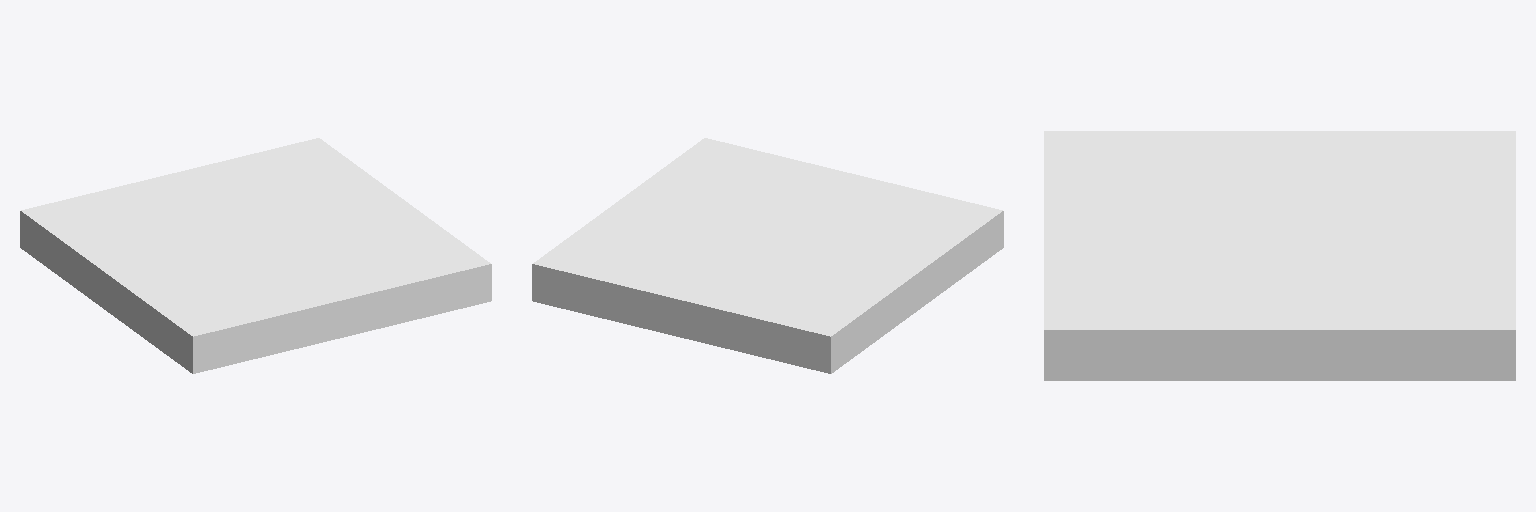
robot.urdf — pupper_concrete:
<?xml version="1.0" ?>
<robot name="pupper_concrete">
  <link name="puller_concrete_planeLink">
  <contact>
      <lateral_friction value="1"/>
  </contact>
    <inertial>
      <origin rpy="0 0 0" xyz="0 0 0"/>
       <mass value=".0"/>
       <inertia ixx="0" ixy="0" ixz="0" iyy="0" iyz="0" izz="0"/>
    </inertial>
    <visual>
      <origin rpy="0 0 0" xyz="1 -1 -0.15"/>
      <geometry>
				<mesh filename="meshes/concrete_plane.obj" scale="1 1 1"/>
      </geometry>
       <material name="white">
        <color rgba="1 1 1 1"/>
      </material>
    </visual>
    <collision>
      <origin rpy="0 0 0" xyz="1 -1 -0.075"/>
      <geometry>
	 	<box size="3 3 0.15"/>
      </geometry>
    </collision>
  </link>
</robot>

--- What the picture shows (computed from the rendered views, not written in the file) ---
3 views of the same robot in one strip: view 1: azimuth 30°, elevation 25°; view 2: azimuth 150°, elevation 25°; view 3: azimuth 270°, elevation 25° (orthographic).
Model pupper_concrete with 1 links and 0 joints (none), rooted at puller_concrete_planeLink, posed all joints at 0.
Links seen in each view (by area): view 1: puller_concrete_planeLink; view 2: puller_concrete_planeLink; view 3: puller_concrete_planeLink.
Link boxes in pixels (<box>): puller_concrete_planeLink: <box>20,138,491,373</box>; puller_concrete_planeLink: <box>532,138,1003,373</box>; puller_concrete_planeLink: <box>1044,131,1515,380</box>.
Size in the robot's own frame: 2.5 by 2.5 by 0.3 metres.
1 mesh visuals loaded from 1 distinct referenced files (1 OBJ).
